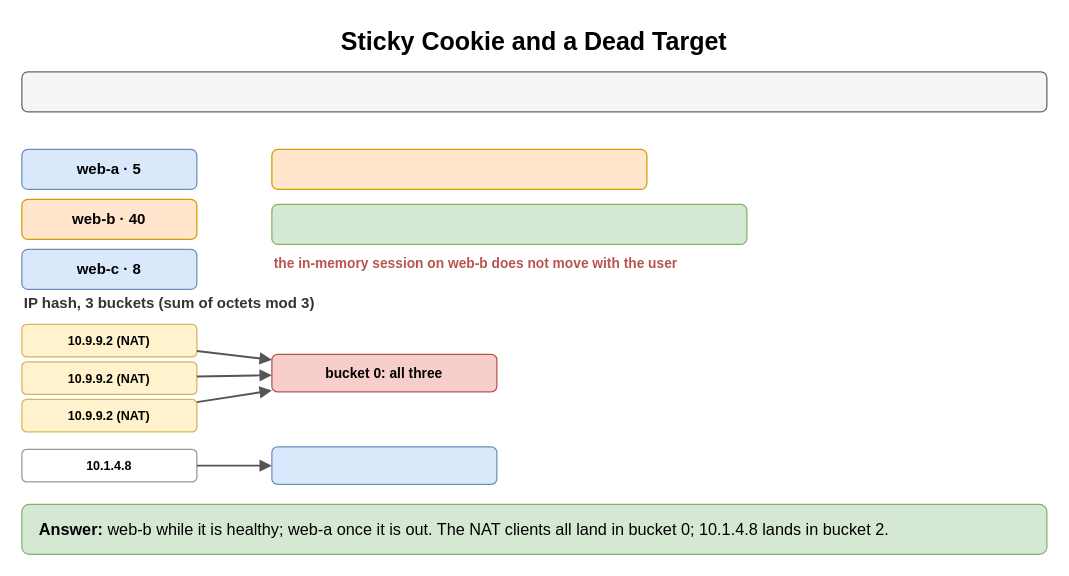
Some shapes in this 1069 by 576 pixel diagram are drawn without their labels. The shapes that lost their labels are listed below. From the top down, each one's centre as x and y in pixels, then its label:
At point (534, 91): "Cookie lb_backend=web-b. Open sessions: web-a 5, web-b 40, web-c 8".
At point (459, 168): "web-b healthy → cookie wins → web-b".
At point (509, 223): "web-b out → ignore cookie → least connections → web-a".
At point (384, 465): "bucket 2".
